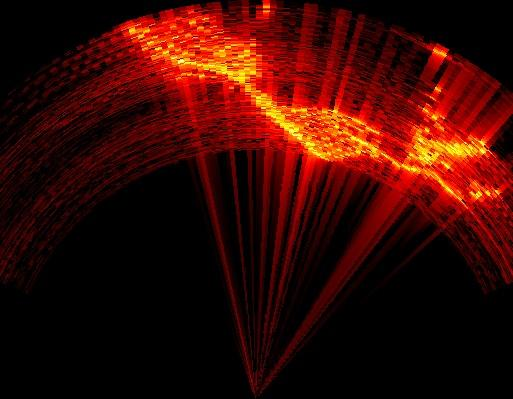shipwreck: (130, 17, 483, 199)
